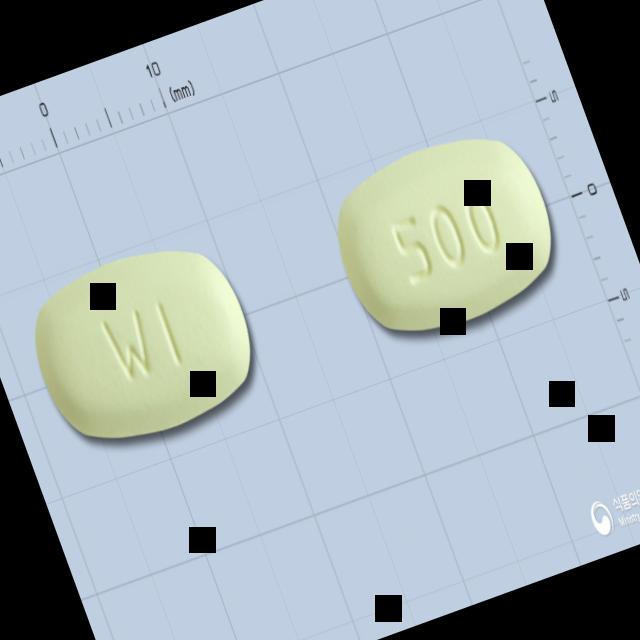Cefixime Cap- Reyon: (13, 225, 274, 466), (316, 117, 575, 354)
